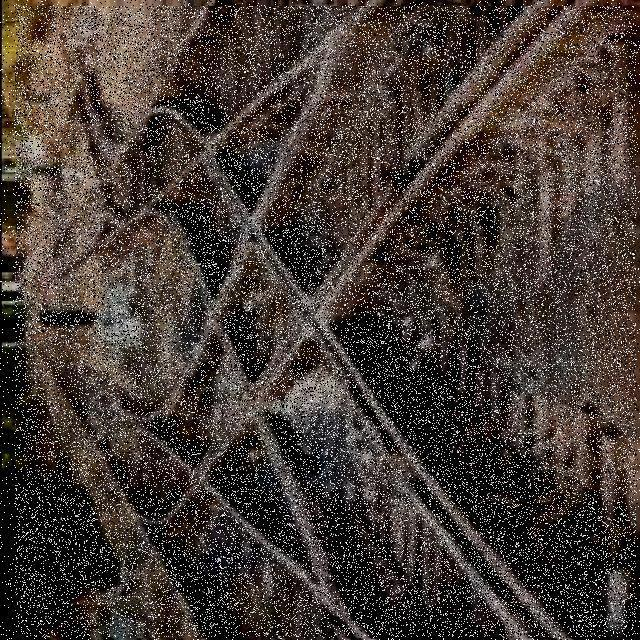rail: (17, 7, 637, 638)
